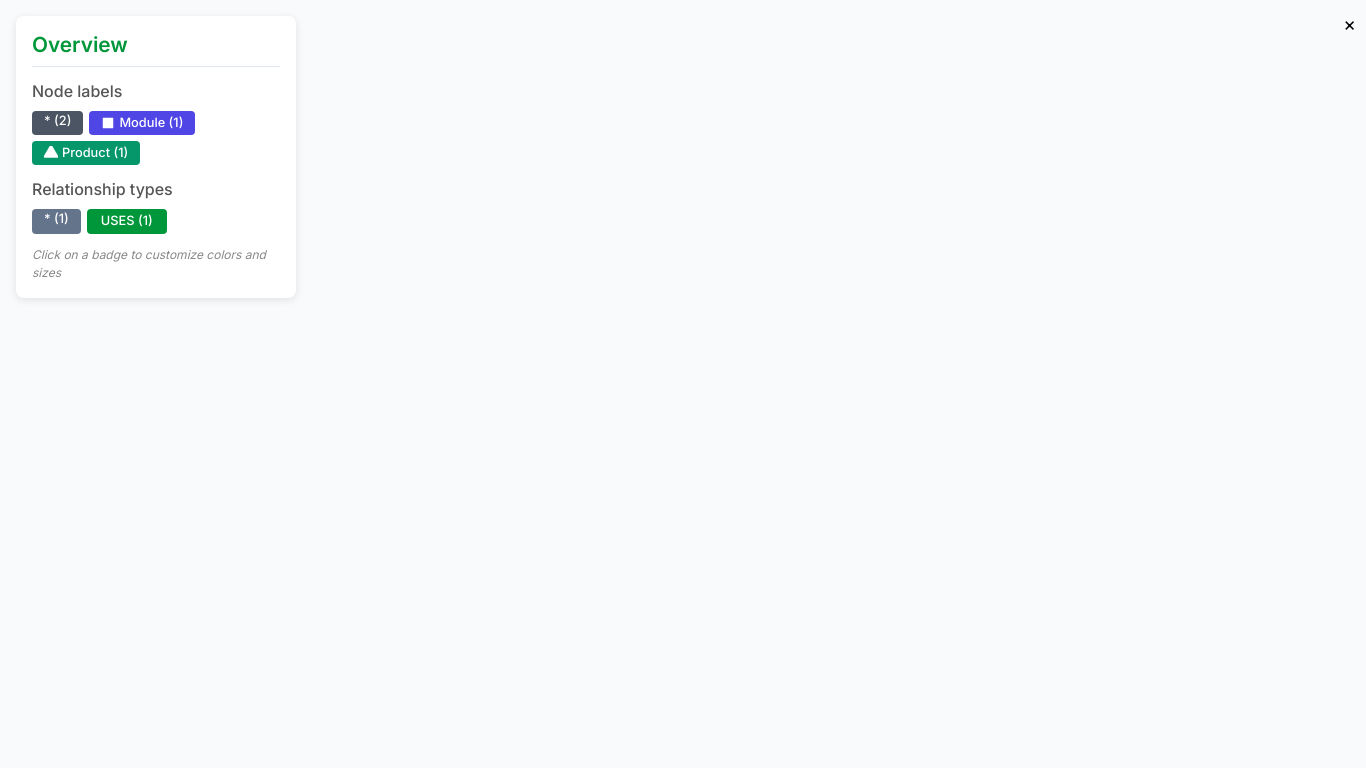
Scenario: Legend › opens ColorPickerModal when node badge is clicked
Click the text "Module (1)" at point(142, 123), box [89, 111, 195, 135]
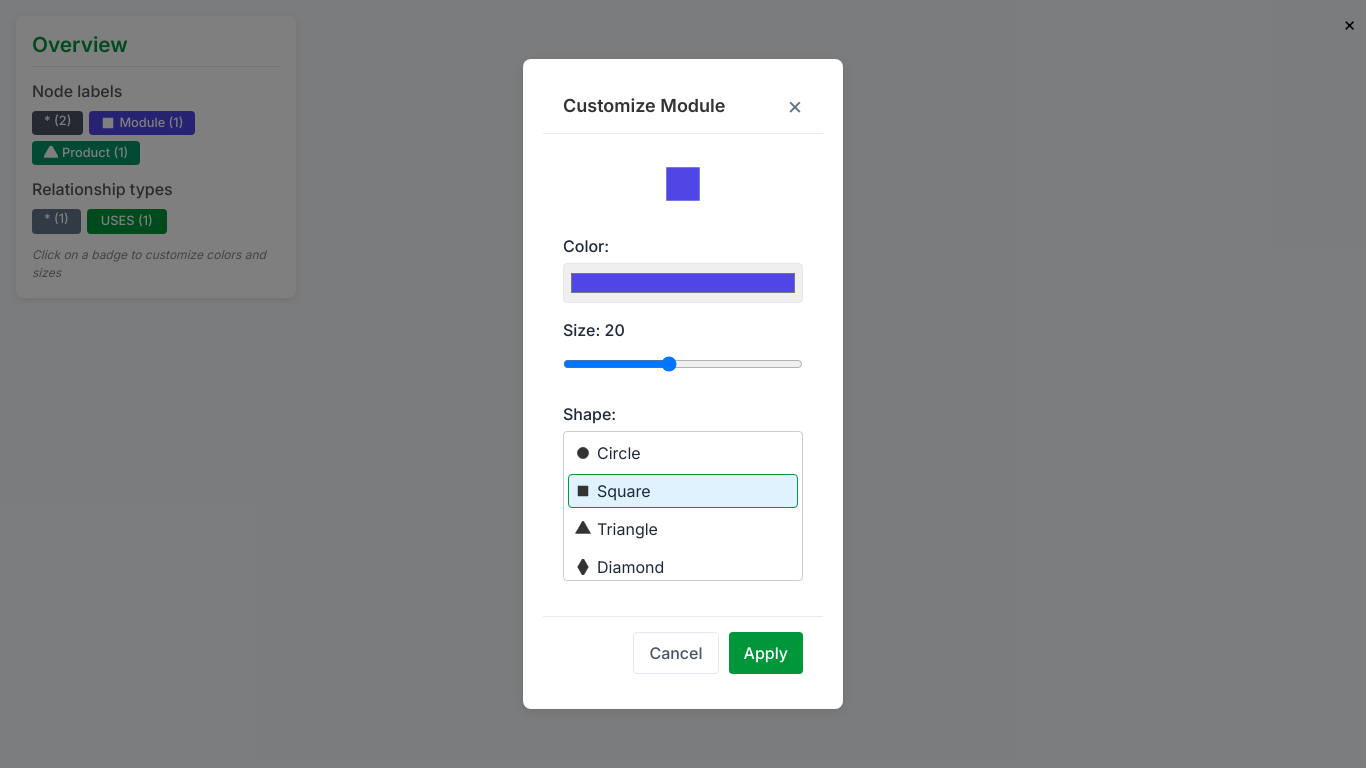
Expected: the heading "Customize Module" is shown, [563, 95, 726, 117]
